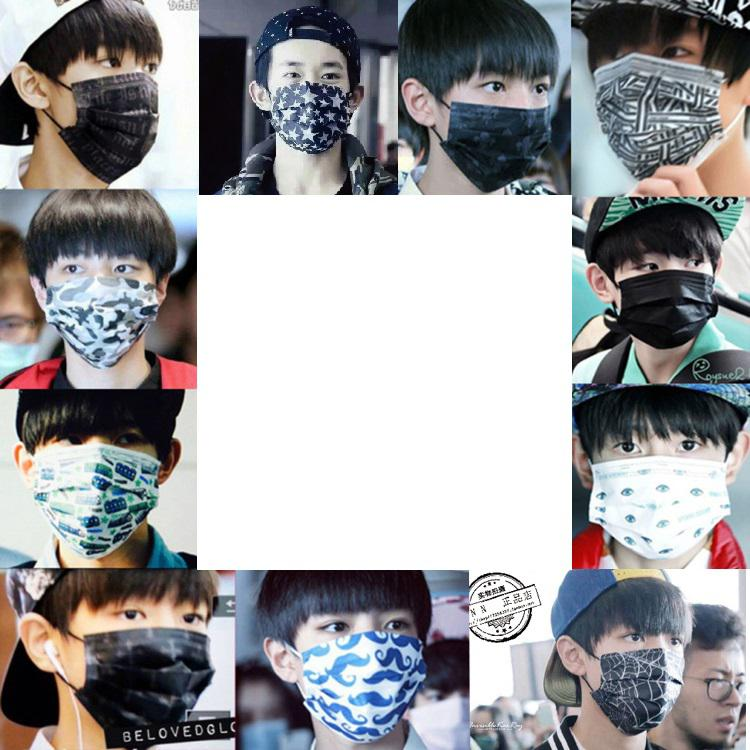NONE: (680, 651, 748, 749)
OK: (71, 569, 225, 723), (285, 587, 436, 738), (592, 31, 740, 181), (585, 415, 725, 555), (28, 410, 166, 548), (57, 26, 194, 163), (38, 234, 164, 360), (436, 59, 549, 172), (611, 233, 722, 344), (584, 613, 694, 723), (264, 53, 360, 149)
